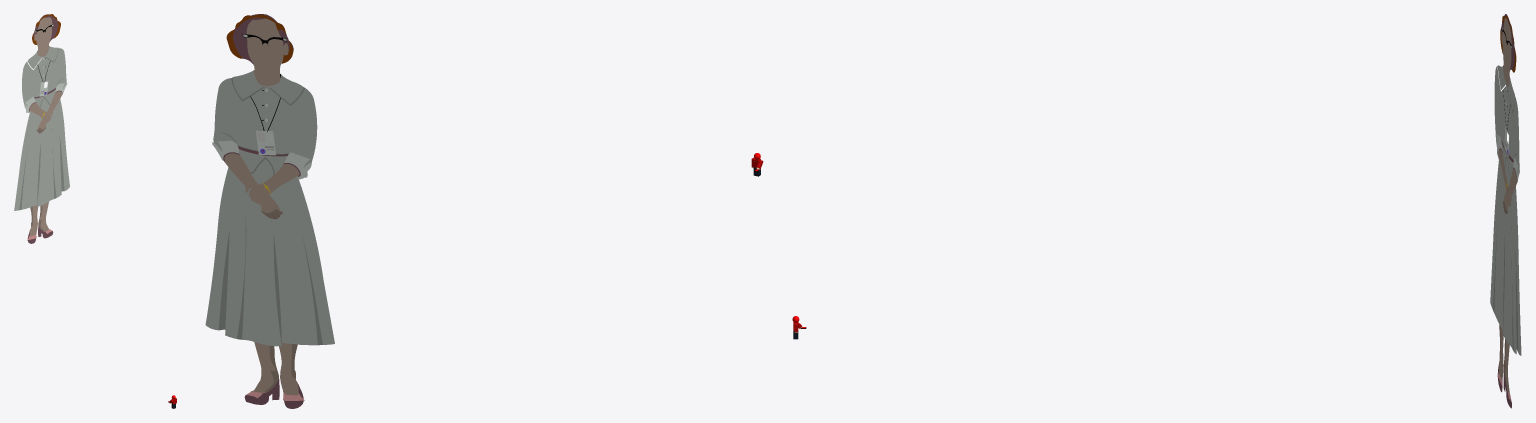
Rendered from red guy test 1.3ds.glb.
The picture shows the model from 3 angles, left to right: view 1: azimuth 30°, elevation 25°; view 2: azimuth 150°, elevation 25°; view 3: azimuth 270°, elevation 25°; orthographic projection. The views are drawn at different scales.
Parts seen in each view (by area): view 1: Katherine_; view 2: Katherine_; view 3: Katherine_.
Part boxes in pixels (x1,y1,x2,y2): Katherine_: [14, 14, 69, 243]; Katherine_: [205, 14, 334, 408]; Katherine_: [1490, 14, 1521, 408].
Bounding box in the file's own units: 215 × 422 × 719.
30 materials, 2 textured.
